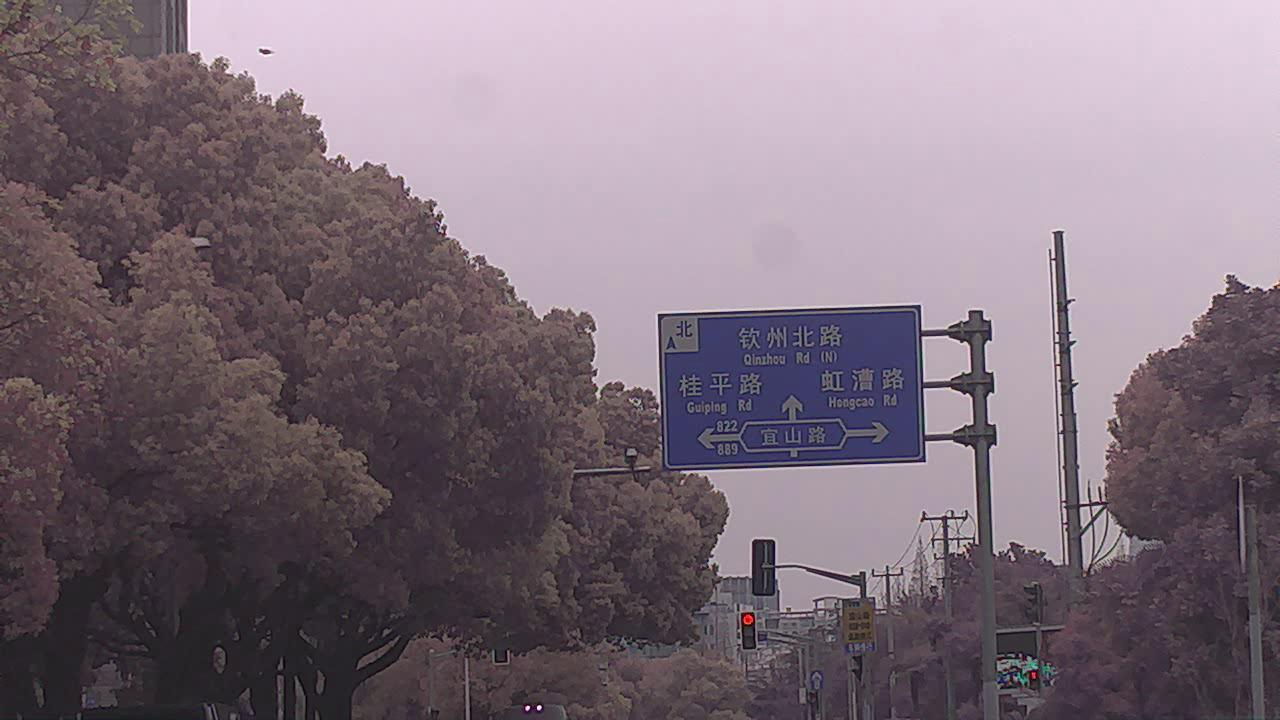traffic_light: (741, 611, 757, 651)
